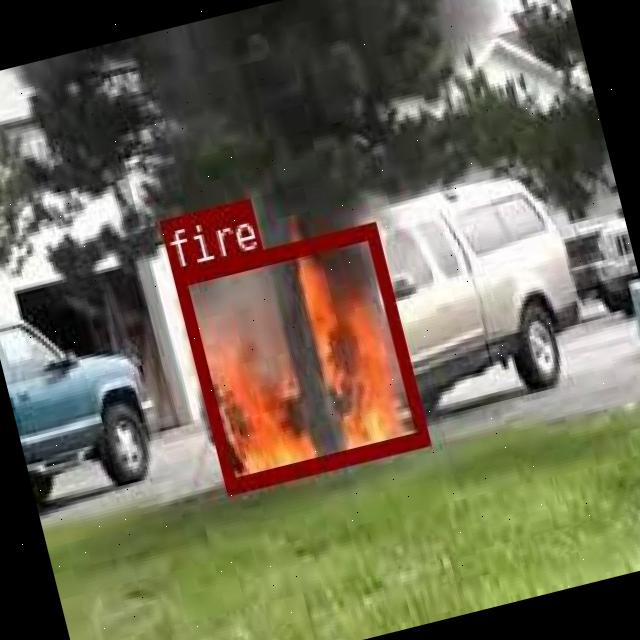fire: (172, 222, 426, 492)
